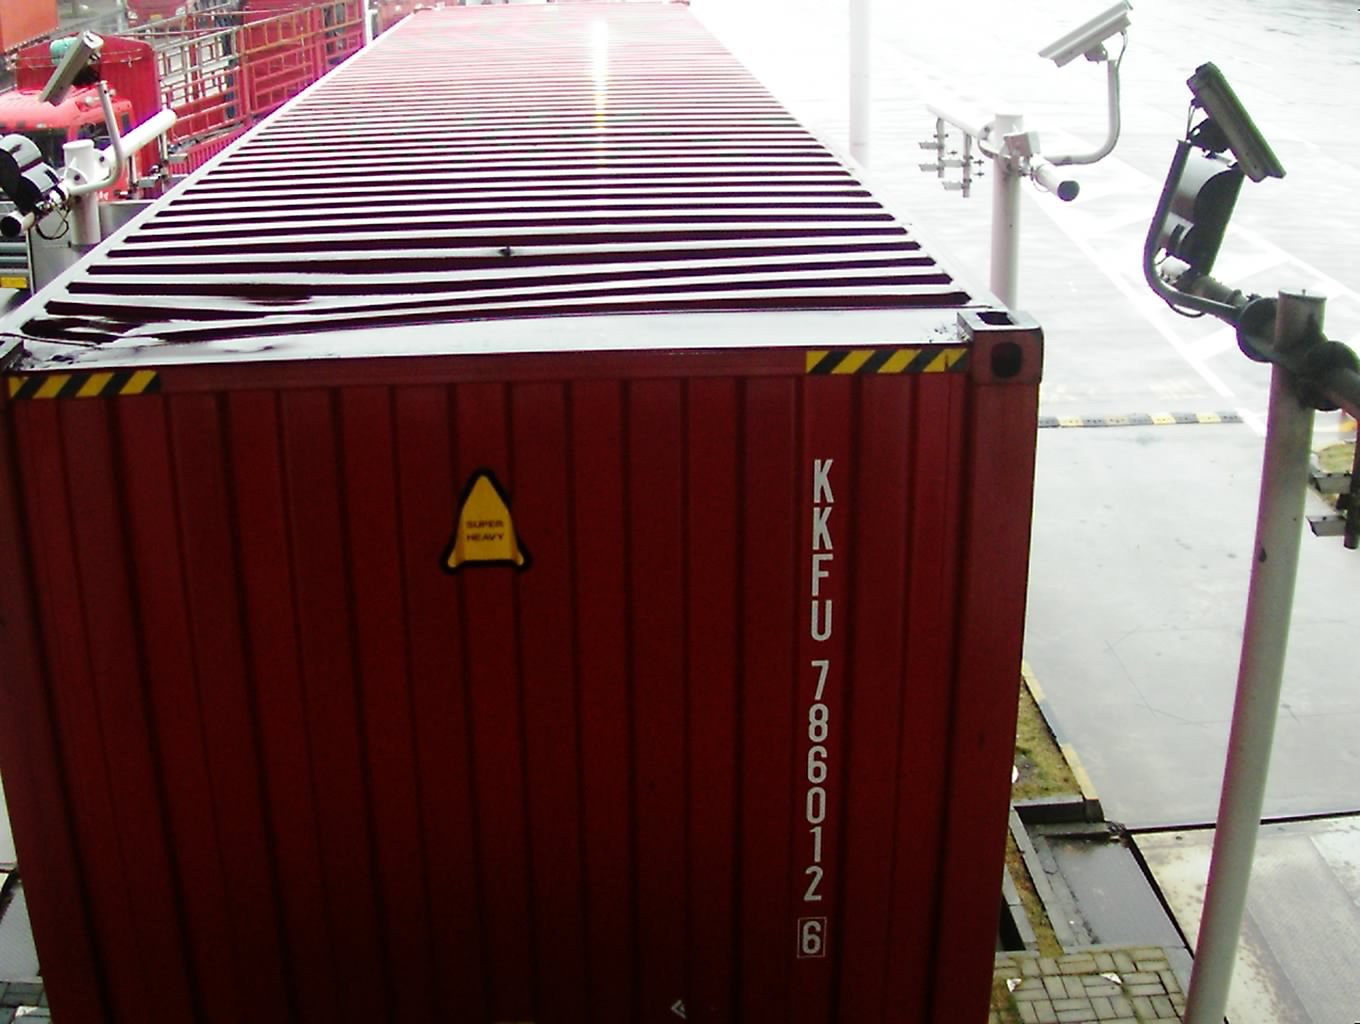words: (797, 453, 844, 959)
